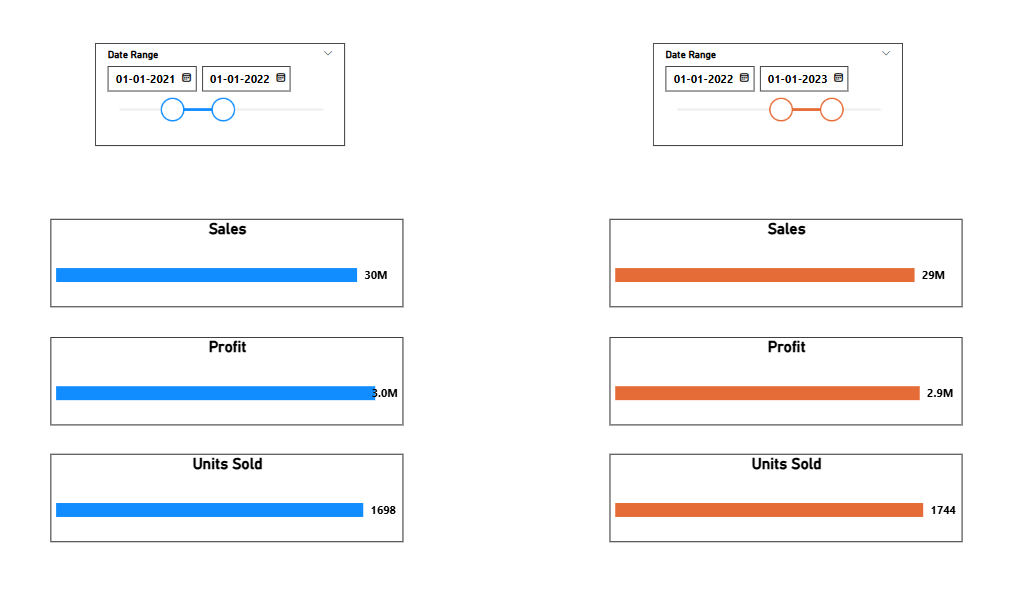

What the dashboard file says about the page in this screenshot:
{"tool":"powerbi","page":{"name":"Page 4","canvas":[1280,720],"ordinal":3},"visuals":[{"type":"slicer","fields":{"Values":["Fact Table.Date (dd/mm/yyyy)"]},"box":[128,64,272,112],"z":0},{"type":"slicer","fields":{"Values":["Fact Table.Date (dd/mm/yyyy)"]},"box":[736,64,272,112],"z":1000},{"type":"barChart","title":"Sales","fields":{"Y":["Sum(Fact Table.Net Sales)"]},"box":[80,256,384,96],"z":2000},{"type":"barChart","title":"Sales","fields":{"Y":["Sum(Fact Table.Net Sales)"]},"box":[688,256,384,96],"z":3000},{"type":"barChart","title":"Profit","fields":{"Y":["Sum(Fact Table.Profit)"]},"box":[80,384,384,96],"z":4000},{"type":"barChart","title":"Profit","fields":{"Y":["Sum(Fact Table.Profit)"]},"box":[688,384,384,96],"z":5000},{"type":"barChart","title":"Units Sold","fields":{"Y":["Sum(Fact Table.Units Sold)"]},"box":[80,512,384,96],"z":6000},{"type":"barChart","title":"Units Sold","fields":{"Y":["Sum(Fact Table.Units Sold)"]},"box":[688,512,384,96],"z":7000}]}

Visuals, with their boxes on the page's 1280x720 design canvas (x1, y1, x2, y2). These are canvas units, not pixel positions in the 1010x606 screenshot, which may show the page scaled, cropped or inside an application window:
slicer - Fact Table.Date (dd/mm/yyyy): left=128, top=64, right=400, bottom=176
slicer - Fact Table.Date (dd/mm/yyyy): left=736, top=64, right=1008, bottom=176
"Sales" barChart: left=80, top=256, right=464, bottom=352
"Sales" barChart: left=688, top=256, right=1072, bottom=352
"Profit" barChart: left=80, top=384, right=464, bottom=480
"Profit" barChart: left=688, top=384, right=1072, bottom=480
"Units Sold" barChart: left=80, top=512, right=464, bottom=608
"Units Sold" barChart: left=688, top=512, right=1072, bottom=608
